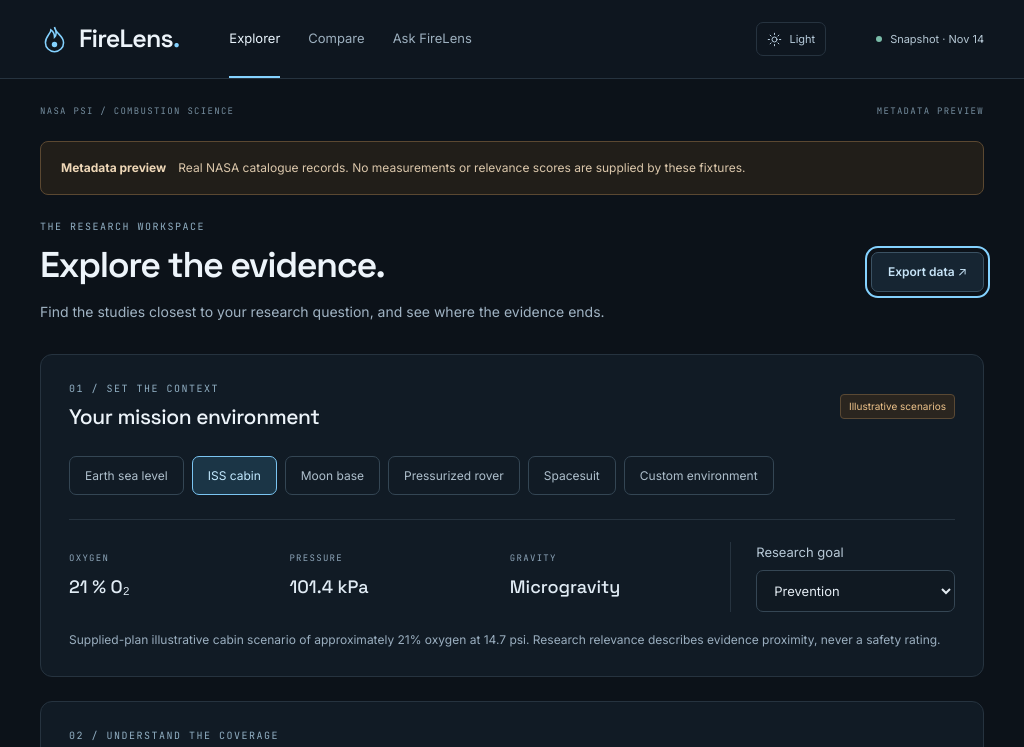
Test: Phase 7 research workspace › opens export with format options, source credit and a preview
The width and height of the screenshot is (1024, 747).
Click the button "Export data ↗".
click(928, 272)  # box [871,252,984,292]
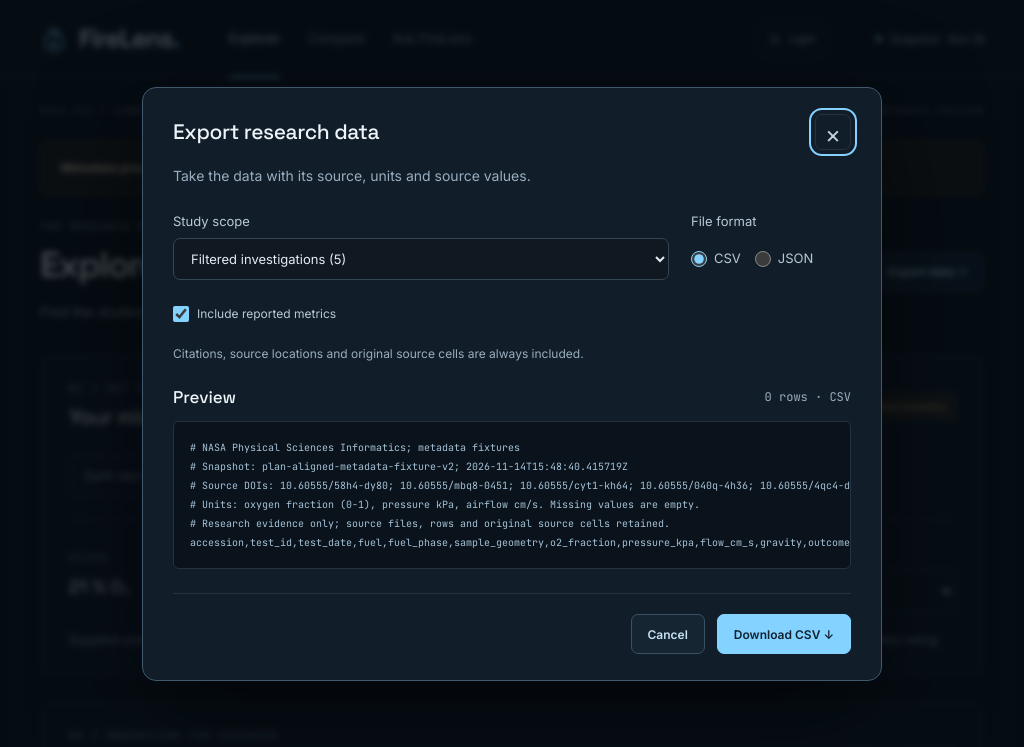
Click the radio button labelled "JSON".
click(763, 259)  # box [755,251,771,267]
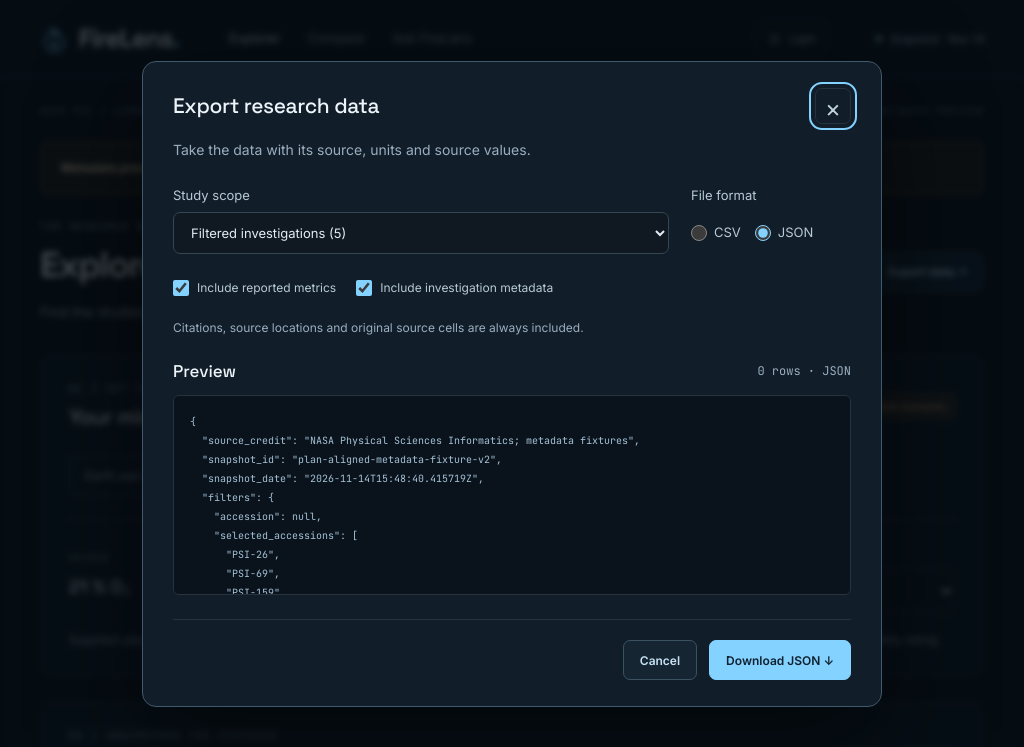
Expected: the button "Download JSON ↓" is enabled, [709,640,851,680]
Expected: the text named "Export preview" shows "snapshot_id", [190,416,640,638]
Click the button "Cancel".
click(660, 660)  # box [623,640,697,680]
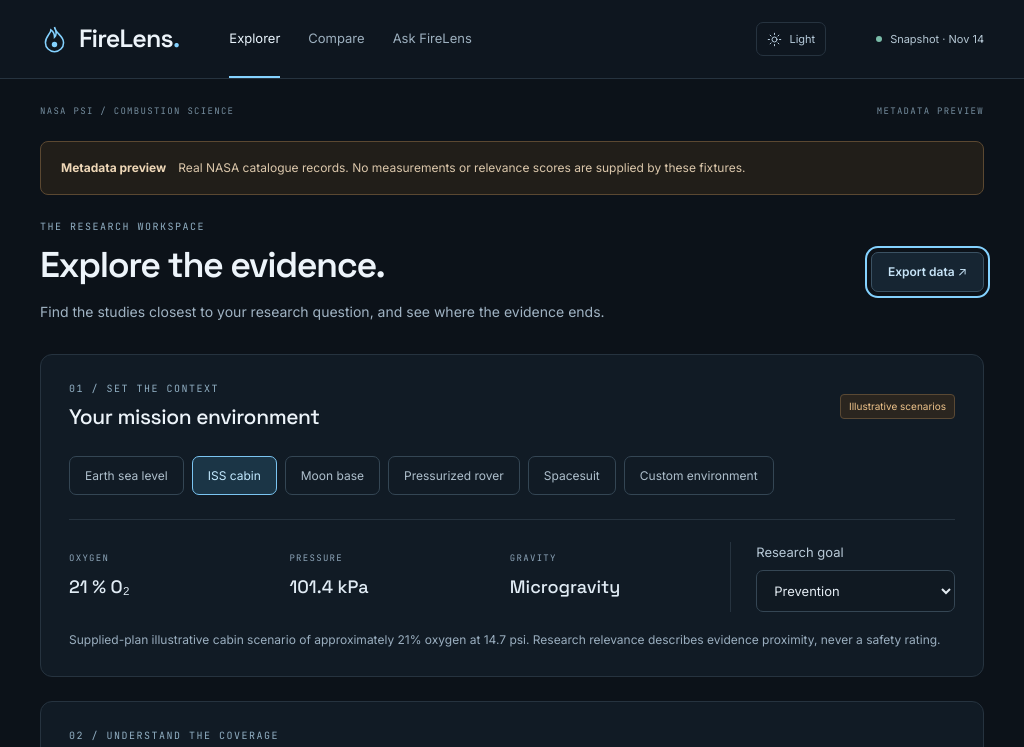
Expected: the dialog is gone
